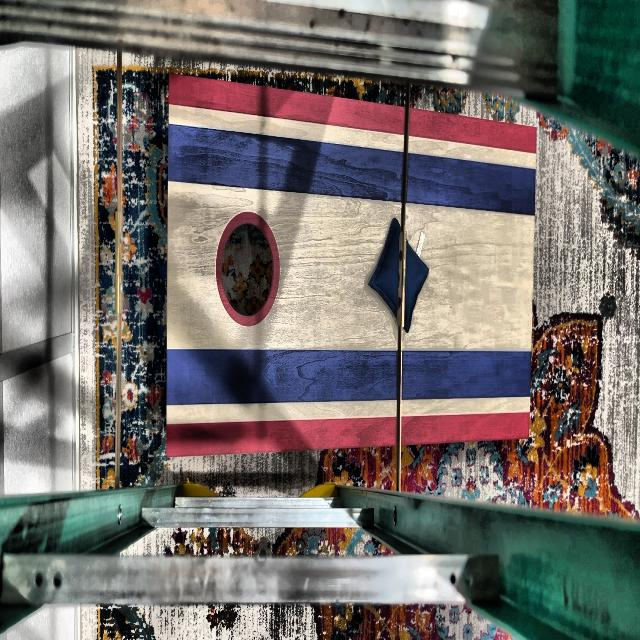blue-bean-bag: (369, 219, 429, 332)
board: (170, 126, 530, 438)
hole: (214, 210, 280, 327)
